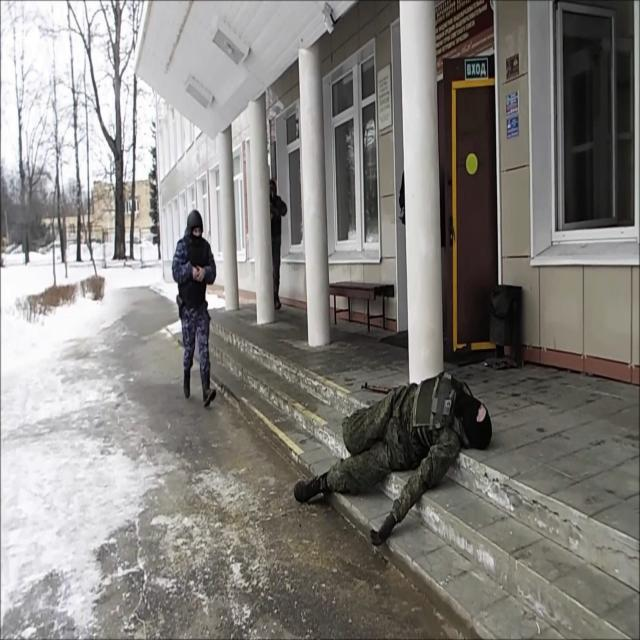gun: (294, 369, 492, 547), (172, 208, 217, 406), (267, 177, 288, 312), (360, 378, 397, 395)
